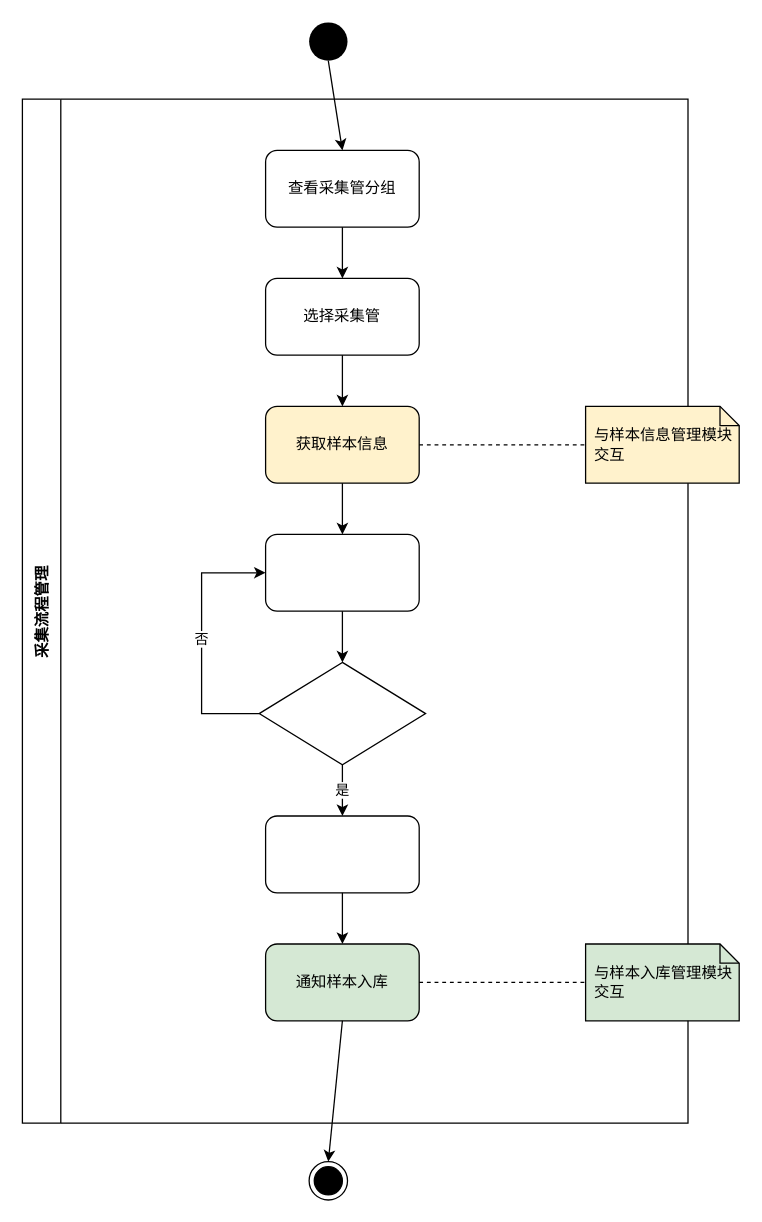
Image size: 762x1222. Some labels were removed from this diagram. Each missing label, with the centre of its shape:
更新采集状态: [341,572]
生成流程报告: [341,854]
采集流程 是否完成？: [342,713]
